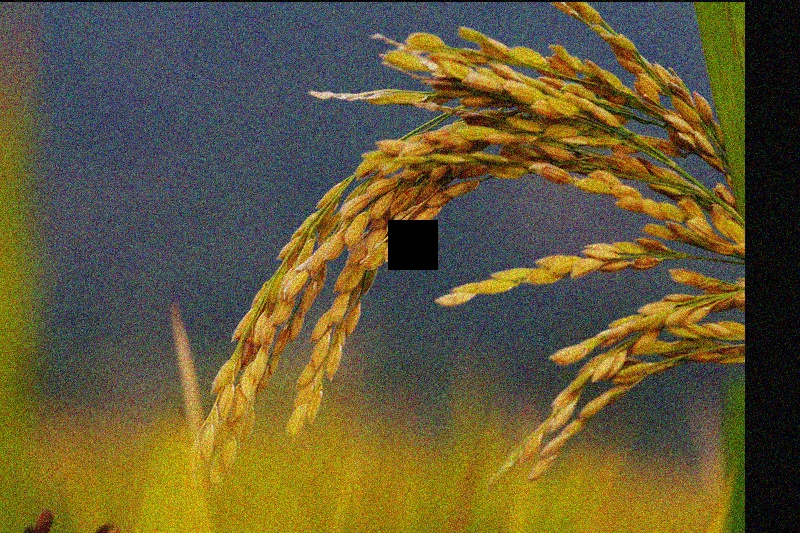rice: (189, 29, 741, 485)
